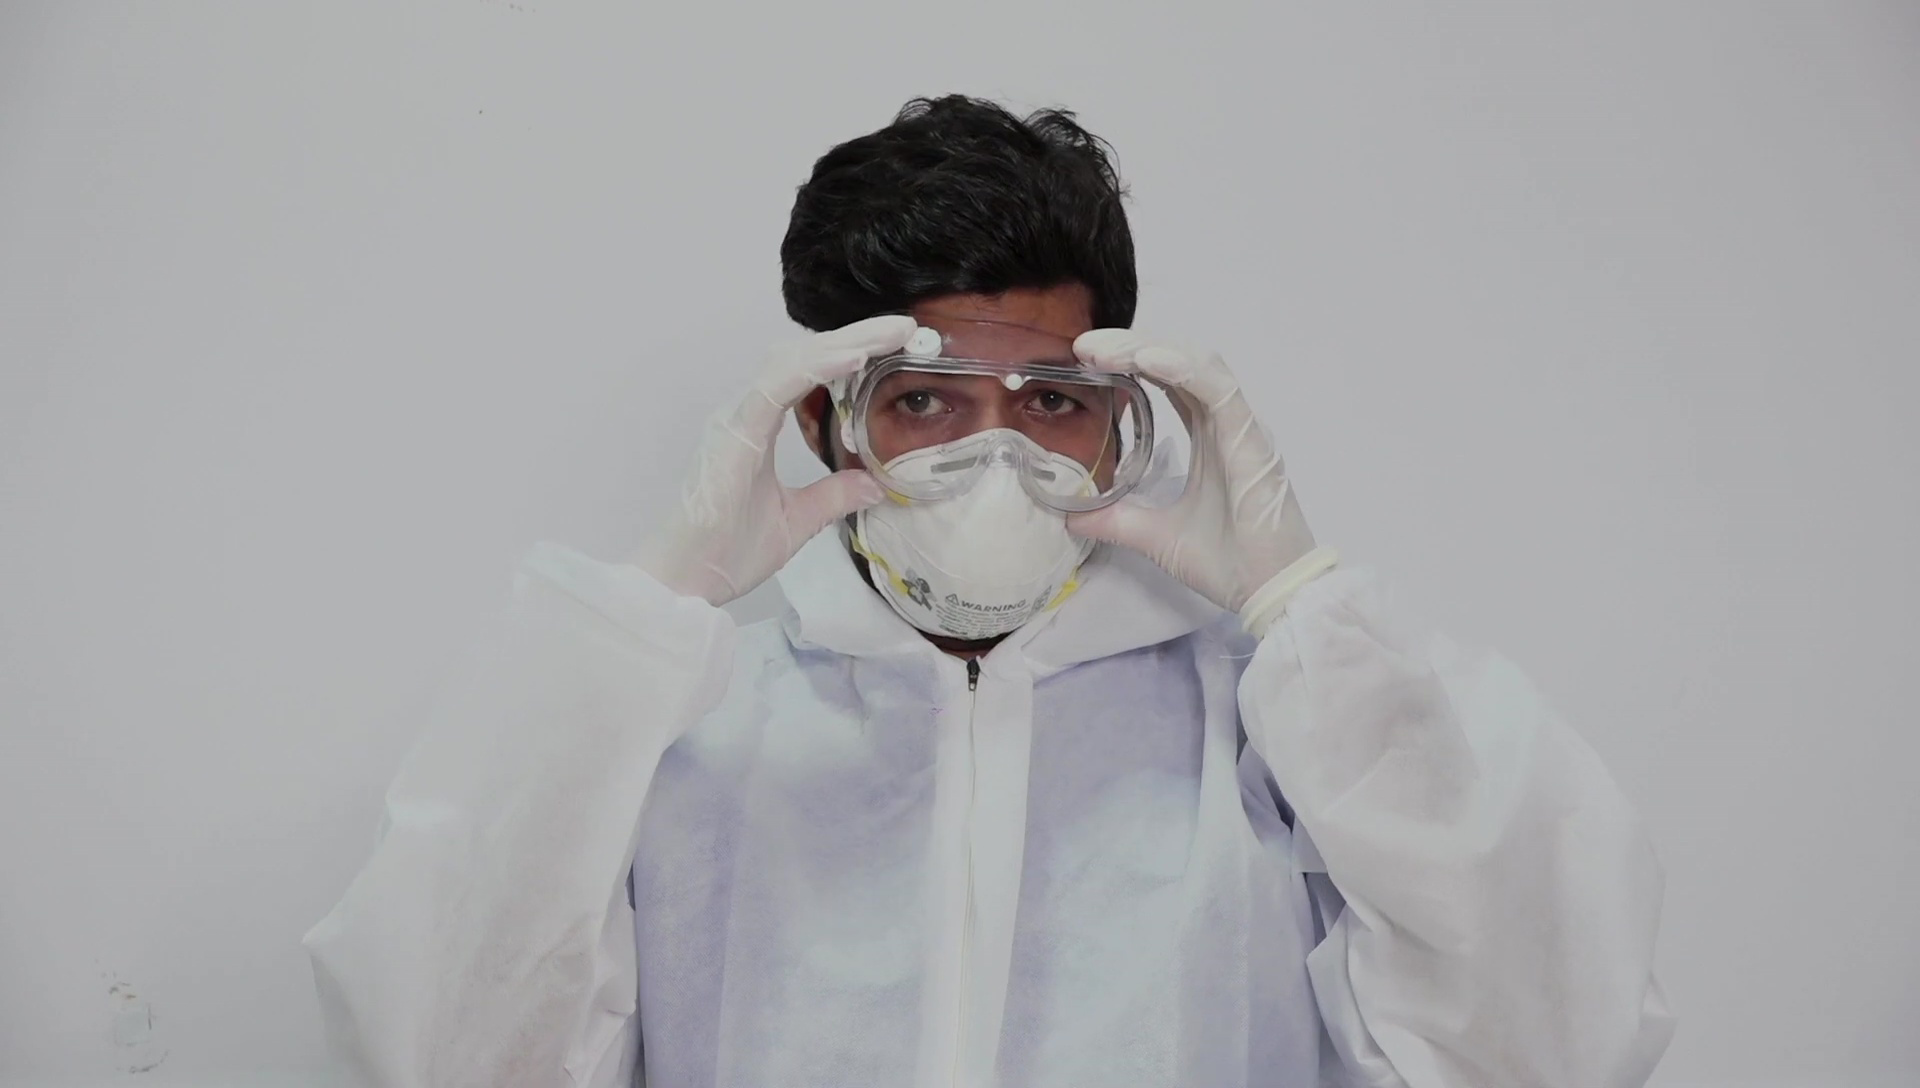Coverall: (306, 533, 1680, 1085)
Gloves: (626, 313, 917, 605), (1067, 326, 1315, 615)
Goggles: (839, 315, 1155, 519)
with_mask: (859, 428, 1101, 641)
